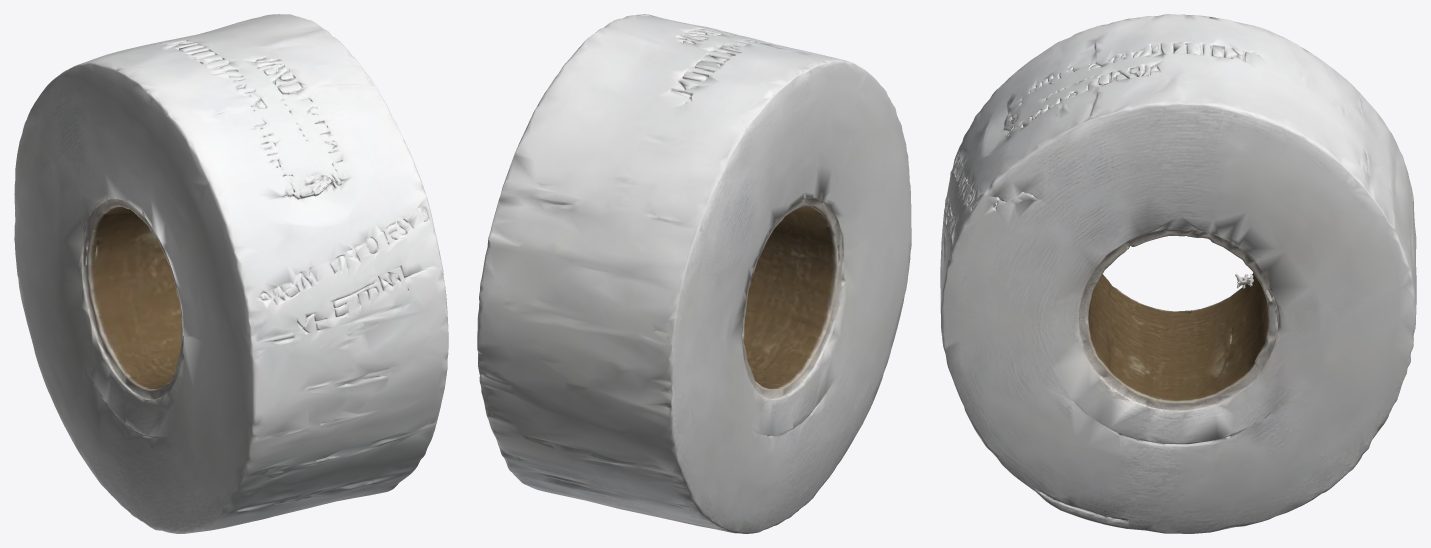
Rendered from pmh-t-s80.glb.
3 views of the same model, side by side, from view 1: azimuth 30°, elevation 25°; view 2: azimuth 150°, elevation 25°; view 3: azimuth 270°, elevation 25° (orthographic). The views are drawn at different scales.
Parts seen in each view (by area): view 1: tripo_node_04625890-ca2d-4b73-a493-cbaaeef7c2bd; view 2: tripo_node_04625890-ca2d-4b73-a493-cbaaeef7c2bd; view 3: tripo_node_04625890-ca2d-4b73-a493-cbaaeef7c2bd.
Boxes of the visible parts, x1,y1,x2,y2 form: tripo_node_04625890-ca2d-4b73-a493-cbaaeef7c2bd: (14,14,448,533); tripo_node_04625890-ca2d-4b73-a493-cbaaeef7c2bd: (477,14,911,533); tripo_node_04625890-ca2d-4b73-a493-cbaaeef7c2bd: (940,14,1416,533).
Bounding box in the file's own units: 0.4868 × 0.9998 × 0.9967.
1 material, 1 textured.
